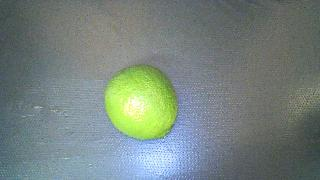EXPORTACION: (105, 65, 177, 140)
